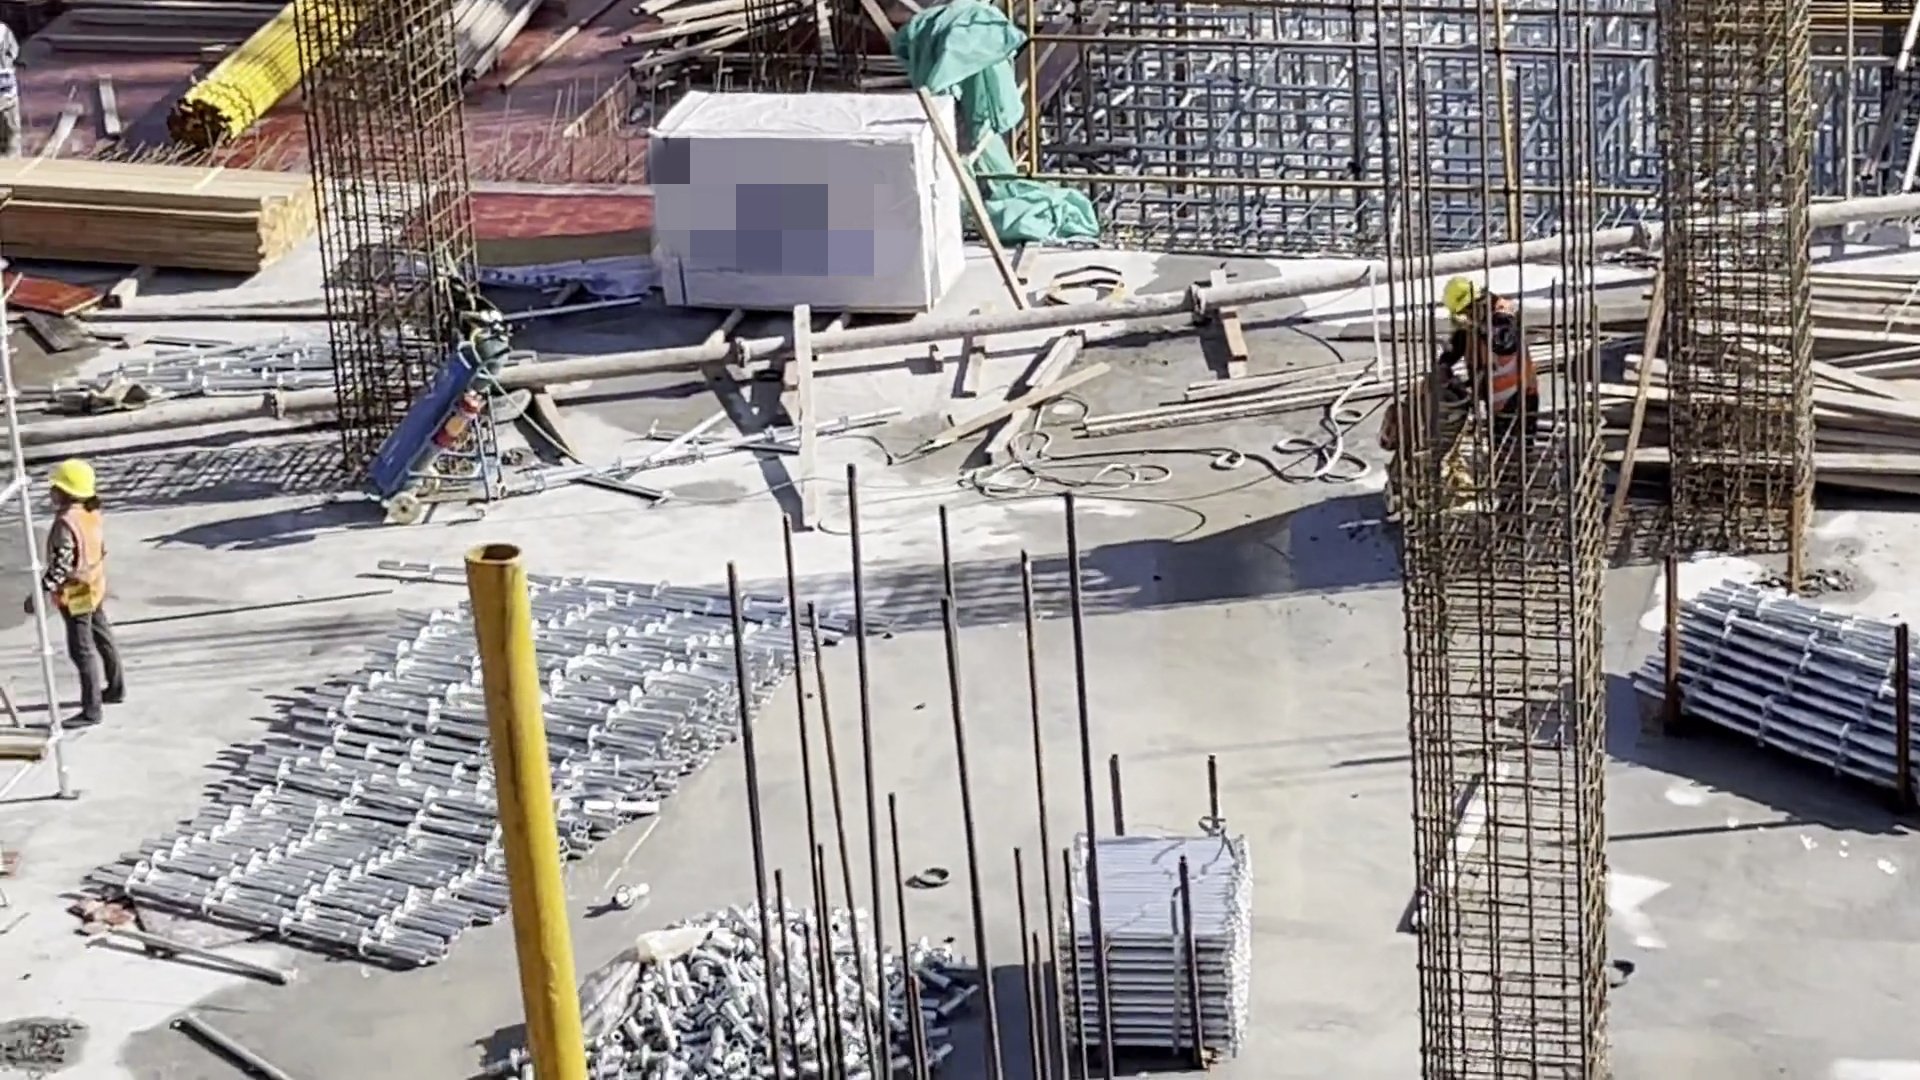helmet: (50, 460, 92, 499), (1444, 282, 1480, 312)
person: (1430, 282, 1538, 515), (45, 461, 136, 734)
scaffold: (107, 555, 895, 986), (1629, 576, 1920, 807), (1063, 831, 1255, 1067)
vest: (1472, 309, 1539, 416), (46, 509, 107, 614)
wood: (2, 151, 321, 275)
